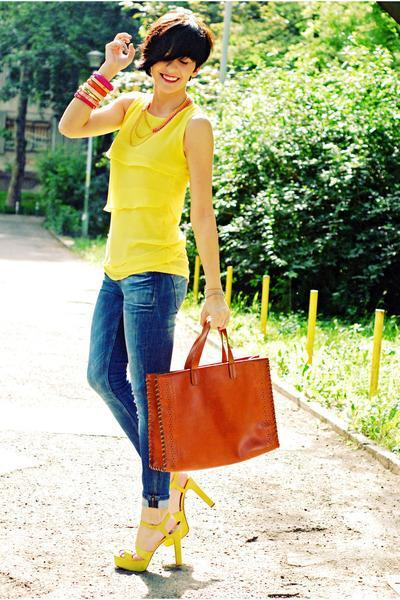bag: (146, 317, 279, 472)
pants: (87, 271, 188, 507)
shirt: (108, 99, 192, 275)
shoe: (114, 469, 214, 575)
